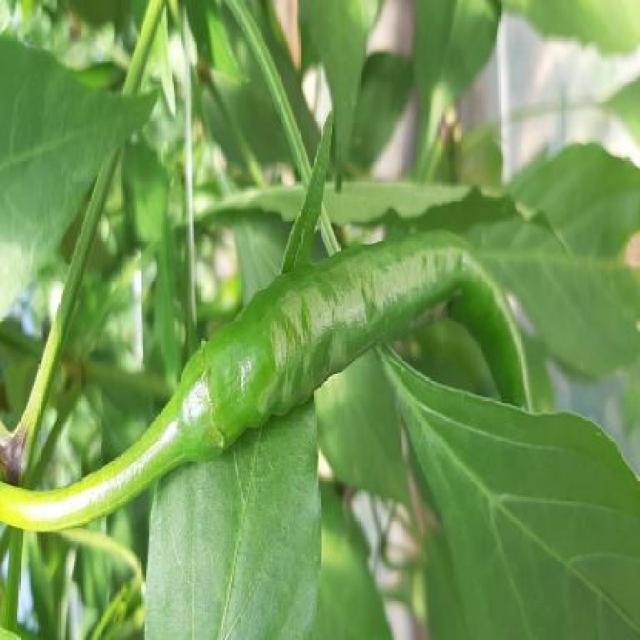green chilli: (117, 228, 534, 508)
